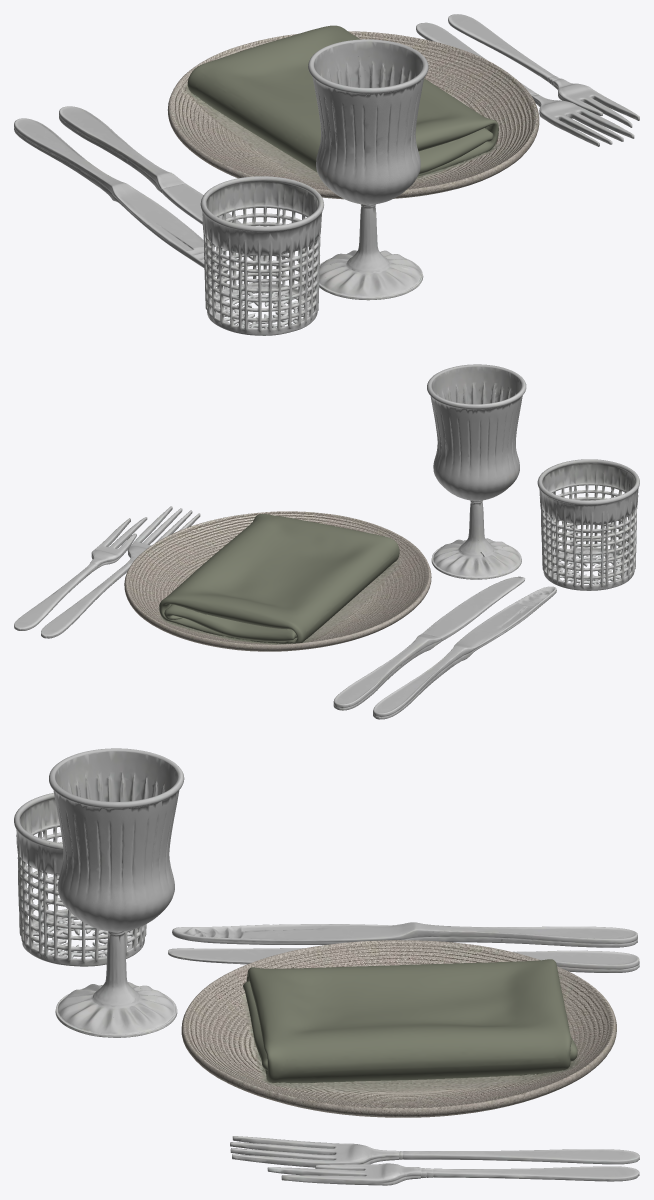
Rendered from decor-place-setting-folded.glb.
The picture shows the model from 3 angles, top to bottom: view 1: azimuth 30°, elevation 25°; view 2: azimuth 150°, elevation 25°; view 3: azimuth 270°, elevation 25°; orthographic projection. The views are drawn at different scales.
Parts seen in each view (by area): view 1: tripo_part_2, tripo_part_1, tripo_part_0, tripo_part_3, tripo_part_8, tripo_part_4, tripo_part_6, tripo_part_7, tripo_part_10, tripo_part_5, tripo_part_9; view 2: tripo_part_3, tripo_part_1, tripo_part_2, tripo_part_0, tripo_part_8, tripo_part_4, tripo_part_9, tripo_part_5, tripo_part_7, tripo_part_6, tripo_part_10; view 3: tripo_part_3, tripo_part_2, tripo_part_1, tripo_part_0, tripo_part_4, tripo_part_6, tripo_part_8, tripo_part_9, tripo_part_5, tripo_part_7, tripo_part_10.
Boxes of the visible parts, bbox=[...] form: tripo_part_2: bbox=[308, 39, 428, 300]; tripo_part_1: bbox=[167, 31, 539, 199]; tripo_part_0: bbox=[200, 176, 323, 335]; tripo_part_3: bbox=[187, 25, 498, 176]; tripo_part_8: bbox=[59, 106, 268, 261]; tripo_part_4: bbox=[14, 118, 176, 229]; tripo_part_6: bbox=[532, 94, 634, 146]; tripo_part_7: bbox=[550, 78, 639, 127]; tripo_part_10: bbox=[448, 14, 558, 83]; tripo_part_5: bbox=[147, 217, 227, 273]; tripo_part_9: bbox=[416, 22, 537, 95]; tripo_part_3: bbox=[159, 514, 399, 643]; tripo_part_1: bbox=[124, 511, 431, 651]; tripo_part_2: bbox=[427, 364, 526, 579]; tripo_part_0: bbox=[537, 459, 639, 590]; tripo_part_8: bbox=[333, 576, 525, 710]; tripo_part_4: bbox=[373, 622, 508, 719]; tripo_part_9: bbox=[41, 564, 130, 638]; tripo_part_5: bbox=[483, 586, 556, 630]; tripo_part_7: bbox=[89, 517, 147, 569]; tripo_part_6: bbox=[126, 506, 200, 564]; tripo_part_10: bbox=[14, 564, 95, 630]; tripo_part_3: bbox=[243, 959, 577, 1083]; tripo_part_2: bbox=[49, 748, 184, 1037]; tripo_part_1: bbox=[181, 940, 616, 1117]; tripo_part_0: bbox=[14, 793, 146, 966]; tripo_part_4: bbox=[315, 922, 637, 947]; tripo_part_6: bbox=[230, 1136, 400, 1167]; tripo_part_8: bbox=[168, 948, 639, 972]; tripo_part_9: bbox=[399, 1149, 639, 1164]; tripo_part_5: bbox=[172, 924, 322, 944]; tripo_part_7: bbox=[267, 1163, 426, 1185]; tripo_part_10: bbox=[426, 1166, 639, 1181].
Size of the model in its own units: 0.45 by 0.1764 by 0.4217.
11 materials, 10 textured.
